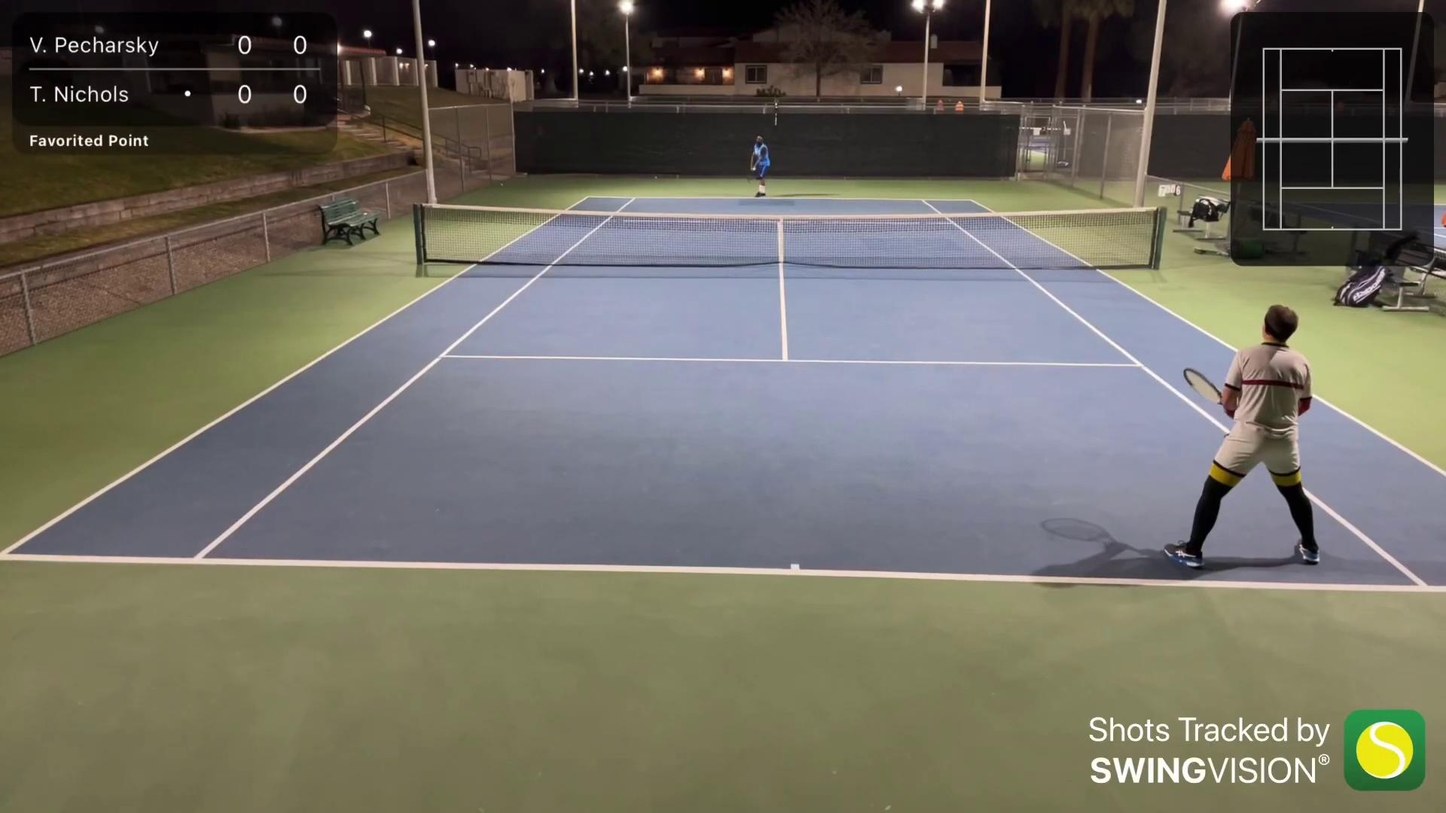ball: (750, 166, 758, 172)
